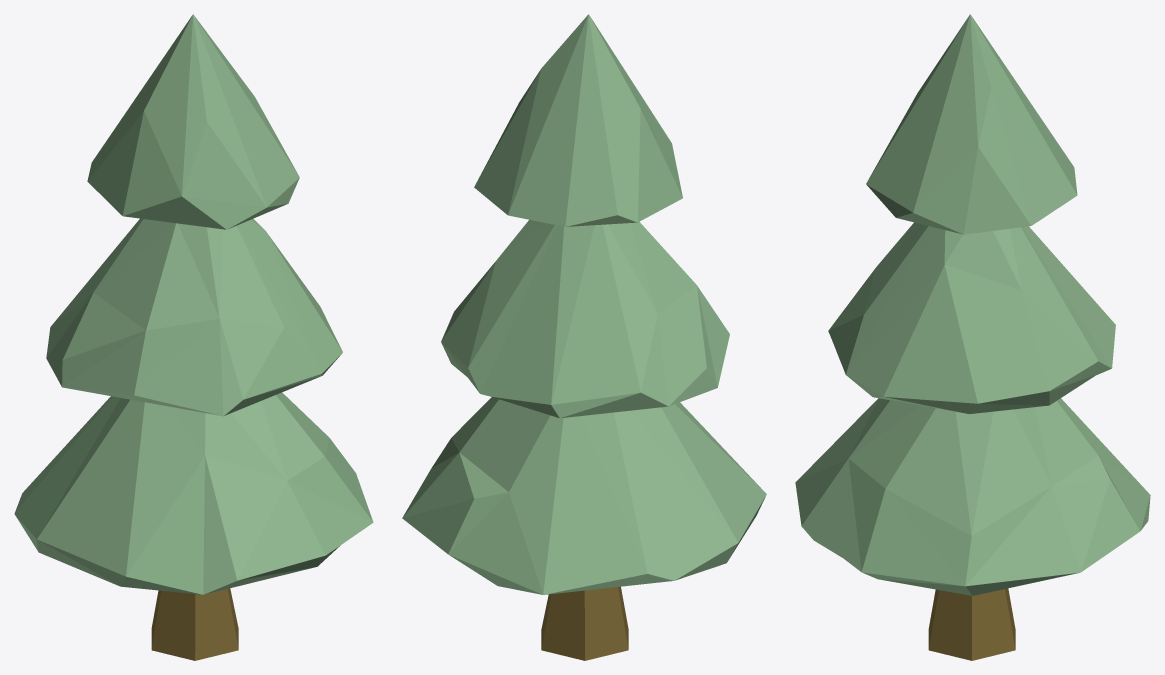
The model's file is pine_lowpoly2.fbx.
The picture shows the model from 3 angles, left to right: view 1: azimuth 30°, elevation 25°; view 2: azimuth 150°, elevation 25°; view 3: azimuth 270°, elevation 25°; orthographic projection.
Visible parts, largest first — view 1: pine_lowpoly2; view 2: pine_lowpoly2; view 3: pine_lowpoly2.
Part boxes in pixels (x1,y1,x2,y2): pine_lowpoly2: (14,14,373,660); pine_lowpoly2: (402,14,766,660); pine_lowpoly2: (795,14,1150,660).
Size of the model in its own units: 1.76 by 3.36 by 1.73.
